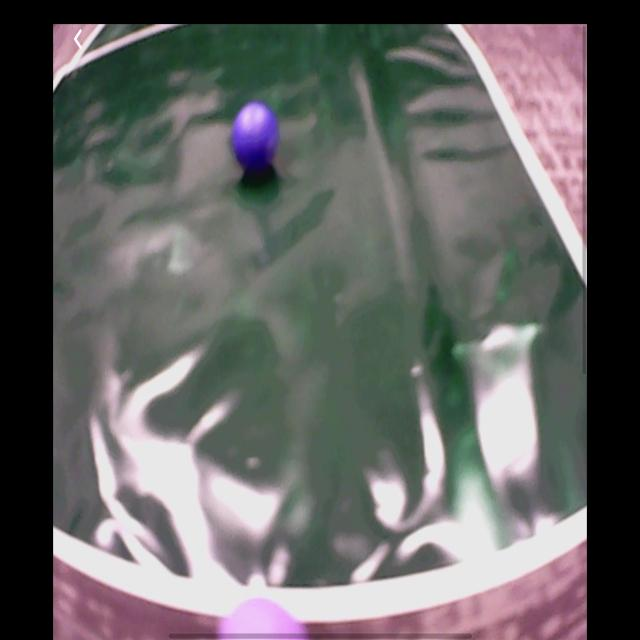ball: (219, 601, 310, 640), (231, 102, 281, 171)
